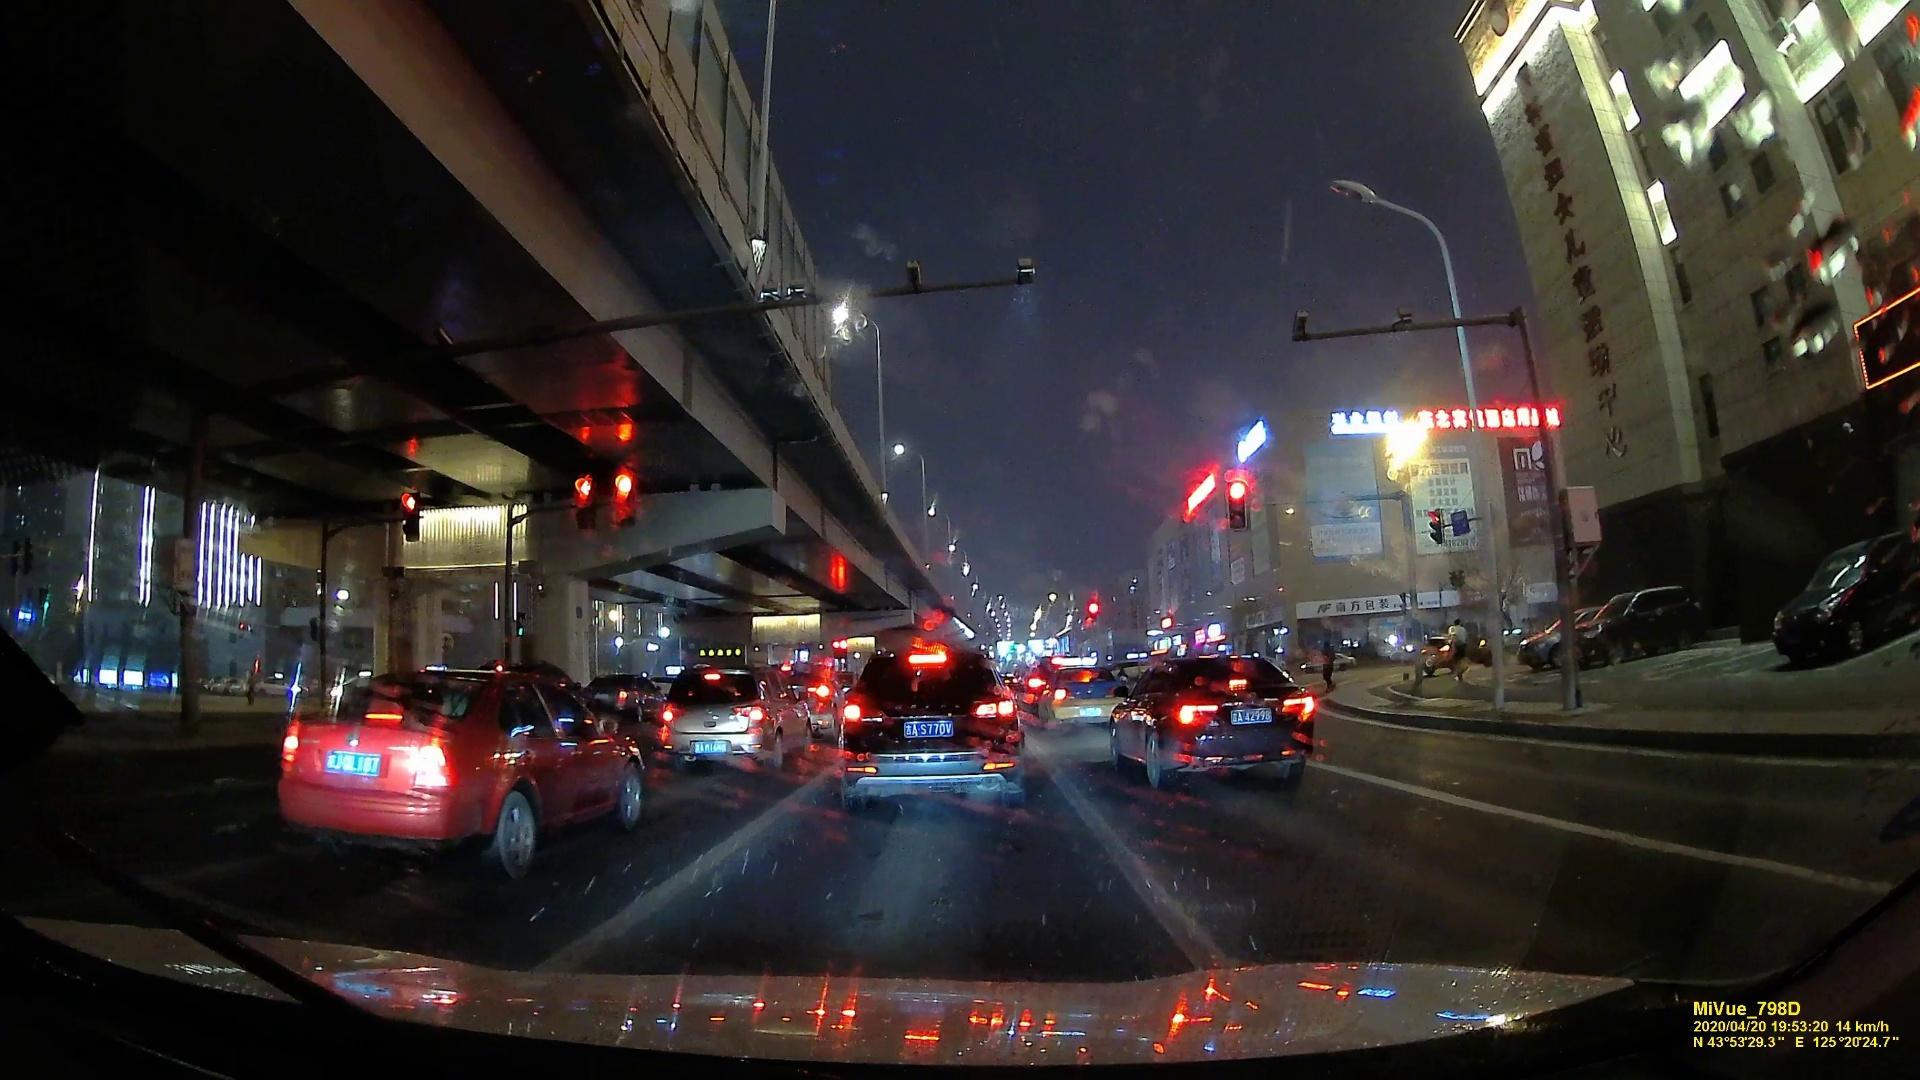person: (1447, 617, 1469, 683), (1320, 638, 1335, 690)
traffic_sign: (570, 473, 596, 531), (611, 472, 634, 529), (1227, 478, 1247, 530), (401, 492, 422, 543), (1424, 509, 1445, 544)
vehicle: (276, 666, 644, 883), (835, 644, 1015, 815), (1109, 655, 1315, 786), (648, 665, 811, 768), (1038, 663, 1119, 730)
